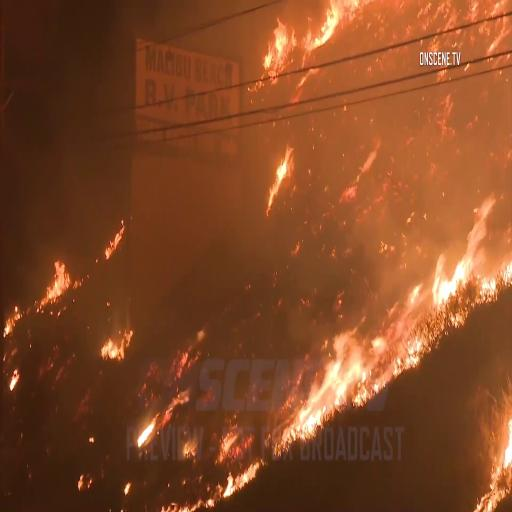fire: (430, 188, 498, 300), (308, 319, 390, 409), (259, 1, 337, 61), (481, 385, 512, 512), (45, 256, 79, 310)
